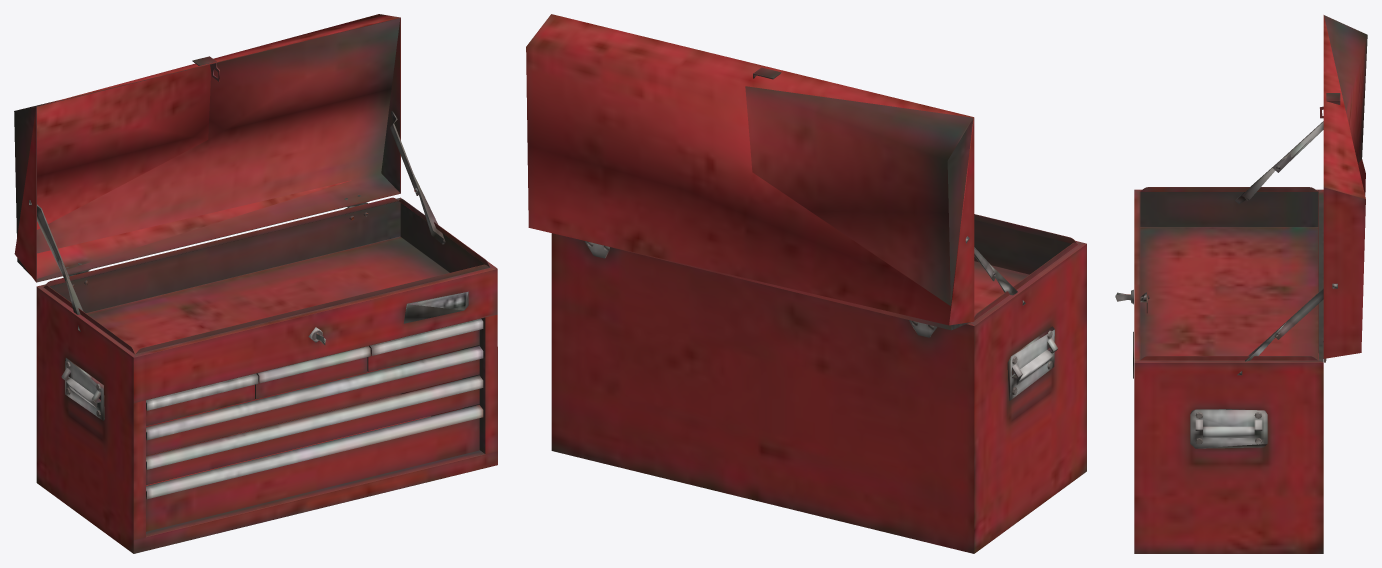
The model's file is tool_chest.glb.
3 views of the same model, side by side, from view 1: azimuth 30°, elevation 25°; view 2: azimuth 150°, elevation 25°; view 3: azimuth 270°, elevation 25° (orthographic). The views are drawn at different scales.
Visible parts, largest first — view 1: tool_chest; view 2: tool_chest; view 3: tool_chest.
Boxes of the visible parts, left/top/right/bottom form: tool_chest: left=14, top=14, right=497, bottom=553; tool_chest: left=526, top=14, right=1086, bottom=553; tool_chest: left=1115, top=15, right=1367, bottom=553.
Size of the model in its own units: 0.6841 by 0.6518 by 0.4064.
1 material, 1 textured.
